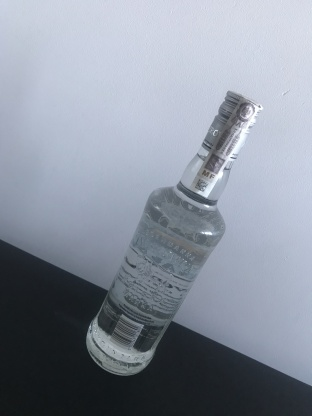nakretka: (199, 88, 263, 164)
